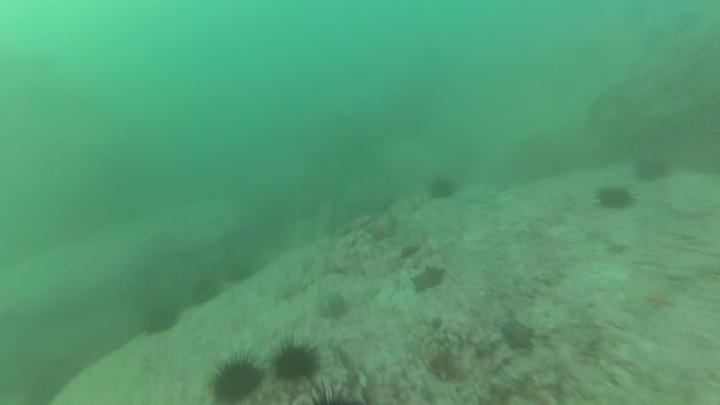echinus: (207, 351, 267, 404), (269, 337, 322, 386), (295, 377, 368, 405), (139, 301, 182, 339), (186, 275, 224, 311), (593, 183, 636, 213), (632, 155, 671, 185), (223, 259, 258, 287), (425, 174, 458, 203)
starfish: (497, 315, 538, 355), (410, 264, 450, 298), (452, 181, 500, 209), (363, 209, 400, 243), (334, 212, 375, 240), (641, 285, 678, 312)
